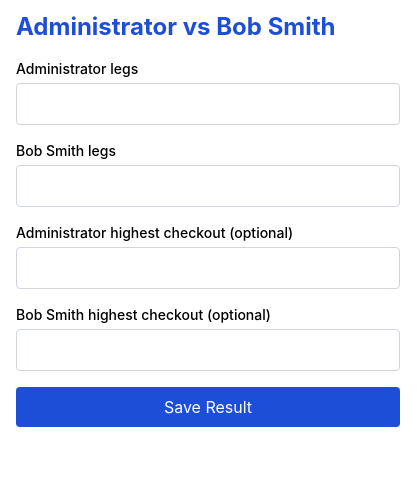
Test: MatchResult › shows an error message when submitMatchResult rejects
This screenshot has width=417, height=480.
In the number field labelled "Administrator legs": point(208, 104) [16, 83, 400, 125], type "3"
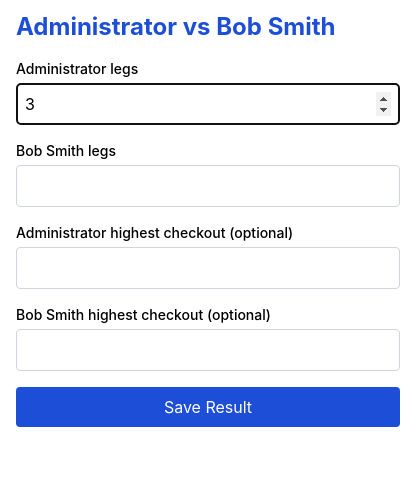
In the number field labelled "Bob Smith legs": point(208, 186) [16, 165, 400, 207], type "0"
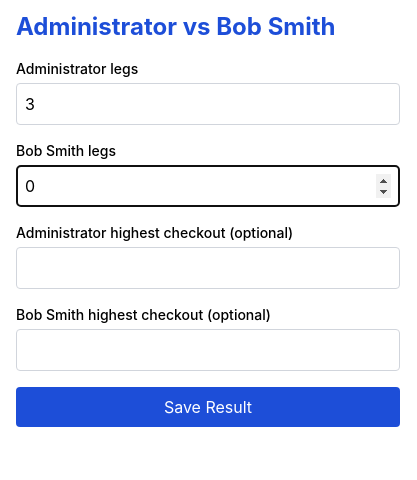
Click the button "Save Result": point(208, 407) [16, 387, 400, 427]
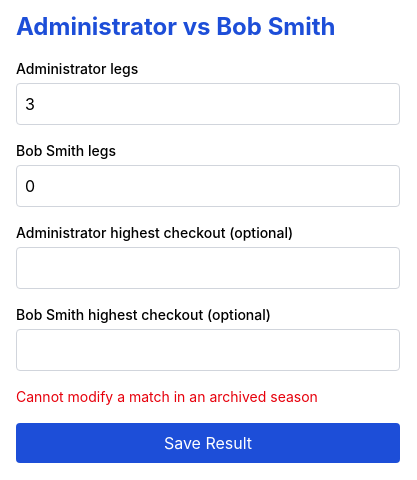
Check: the message reads "Cannot modify a match in an archived season", box [16, 388, 318, 405]
